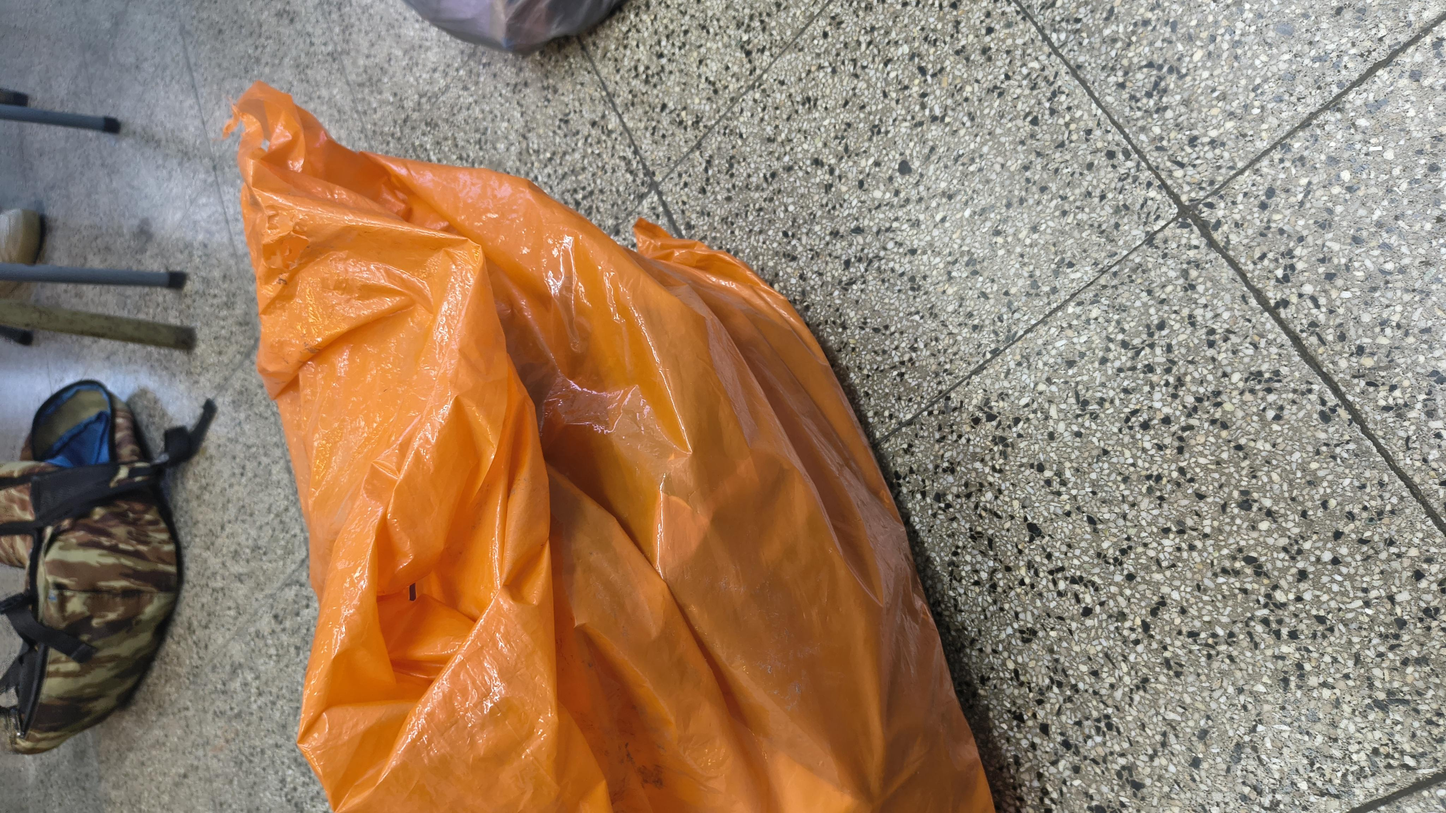Garbage: (6, 165, 1218, 595)
